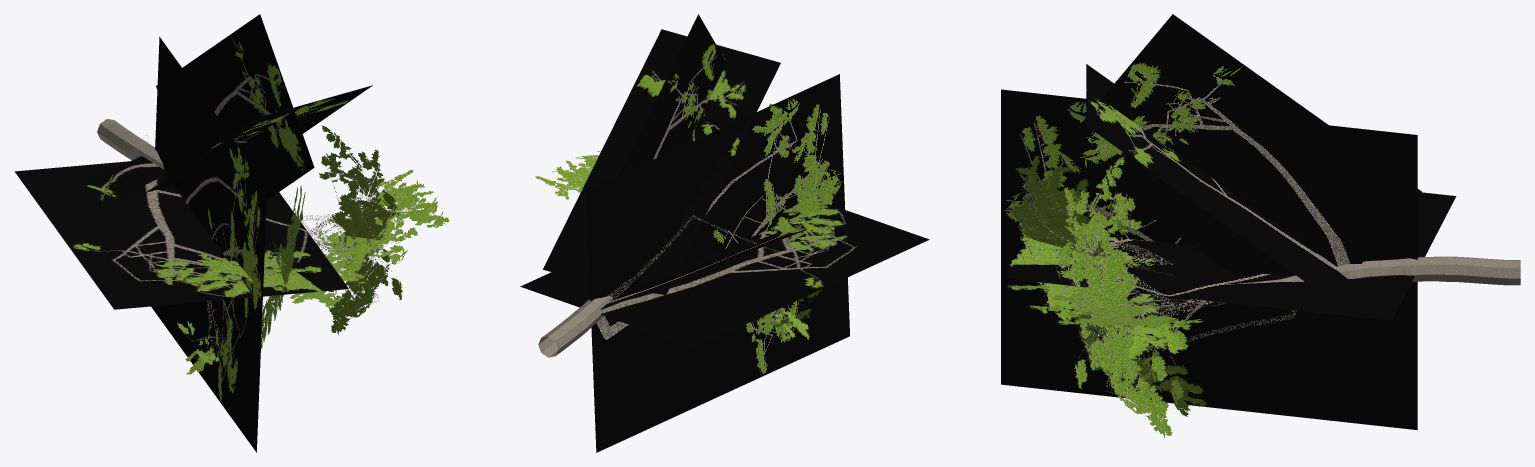
3 views of the same model, side by side, from view 1: azimuth 30°, elevation 25°; view 2: azimuth 150°, elevation 25°; view 3: azimuth 270°, elevation 25° (orthographic). The views are drawn at different scales.
Parts seen in each view (by area): view 1: billborad11, billborad10, billborad7, billborad2, billborad3, billborad6, billborad1, billborad9, billborad0, trucks; view 2: billborad10, billborad11, billborad6, billborad7, trucks, billborad9, billborad3, billborad8, billborad1; view 3: billborad10, billborad7, billborad11, billborad2, billborad6, billborad0, trucks, billborad1, billborad3, billborad4.
Part boxes in pixels (x1,y1,x2,y2): billborad11: (14, 161, 348, 309); billborad10: (151, 37, 267, 452); billborad7: (156, 14, 314, 200); billborad2: (310, 125, 402, 334); billborad3: (289, 169, 449, 307); billborad6: (146, 85, 372, 192); billborad1: (197, 242, 378, 292); billborad9: (82, 156, 167, 198); billborad0: (260, 186, 305, 352); trucks: (97, 119, 164, 169); billborad10: (586, 74, 849, 452); billborad11: (520, 204, 929, 347); billborad6: (543, 29, 780, 294); billborad7: (585, 14, 726, 246); trucks: (538, 296, 612, 357); billborad9: (601, 223, 806, 309); billborad3: (535, 151, 600, 199); billborad8: (606, 215, 805, 301); billborad1: (782, 191, 833, 219); billborad10: (1001, 89, 1417, 429); billborad7: (1058, 14, 1421, 327); billborad11: (1006, 192, 1456, 320); billborad2: (1056, 156, 1213, 438); billborad6: (1086, 64, 1349, 312); billborad0: (1010, 155, 1206, 416); trucks: (1216, 256, 1520, 302); billborad1: (1008, 217, 1185, 359); billborad3: (1007, 283, 1205, 329); billborad4: (1156, 310, 1296, 405).
Size of the model in its own units: 7.12 by 6.57 by 7.8.
